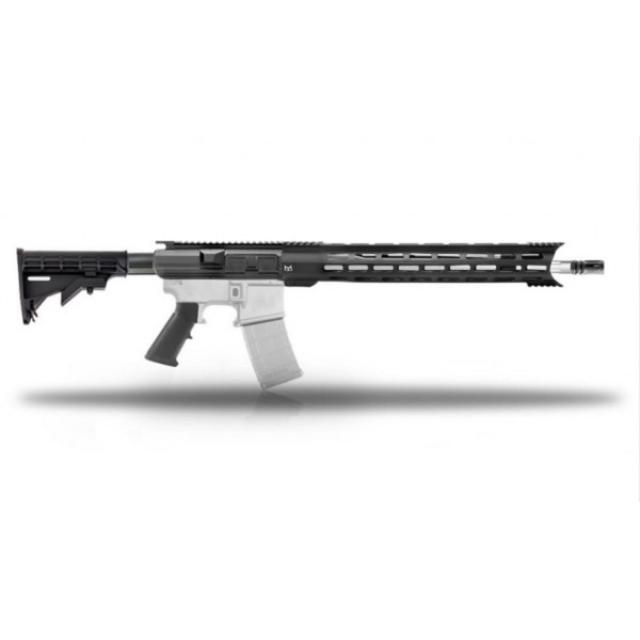Rifle: (18, 242, 605, 389)
